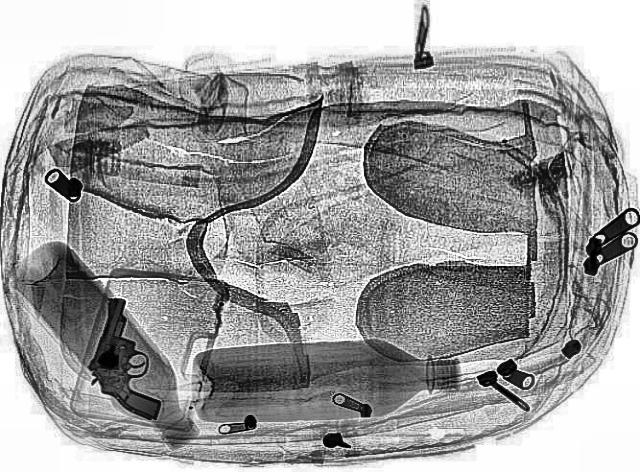Gun: (69, 296, 195, 420)
